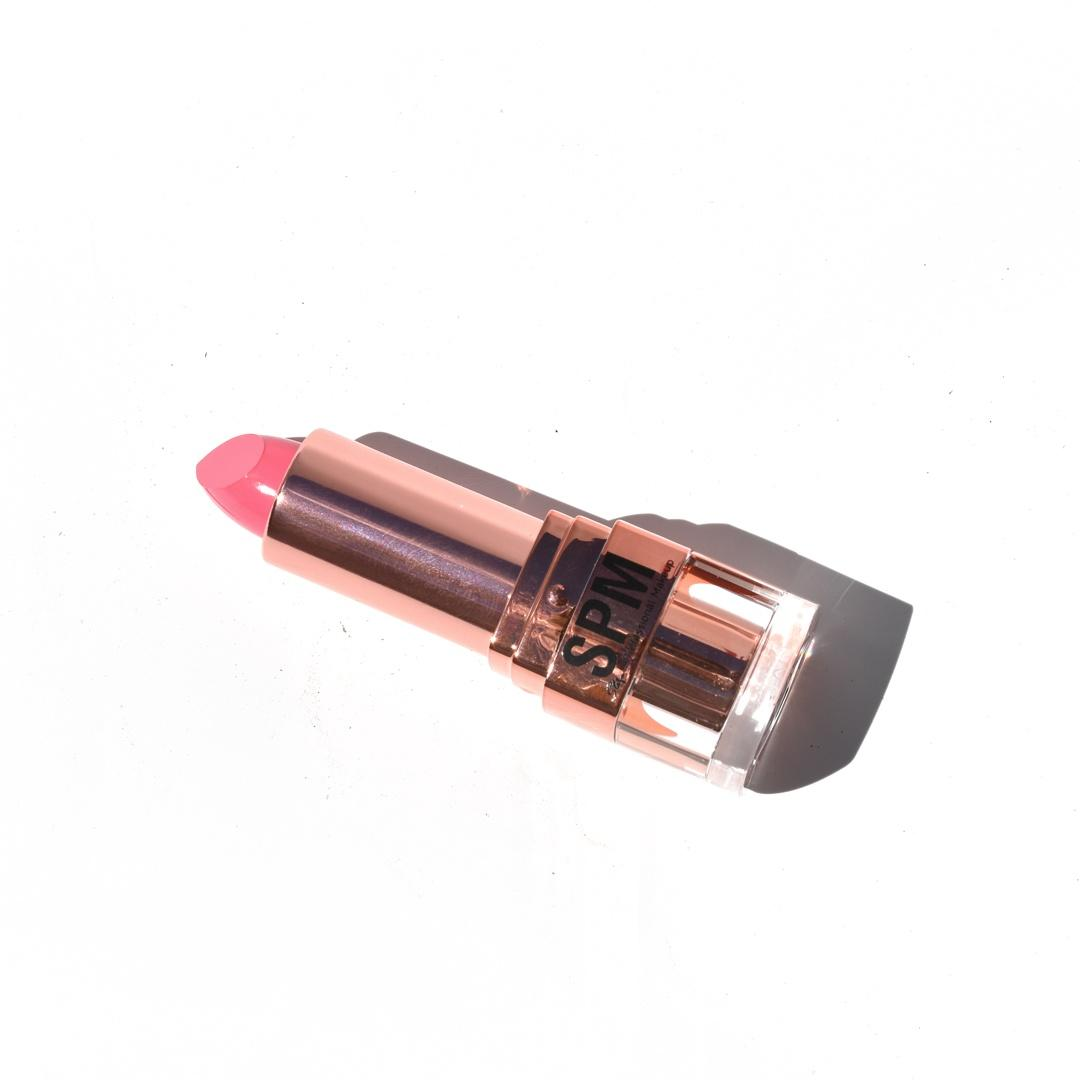lipstick: (161, 398, 934, 797)
